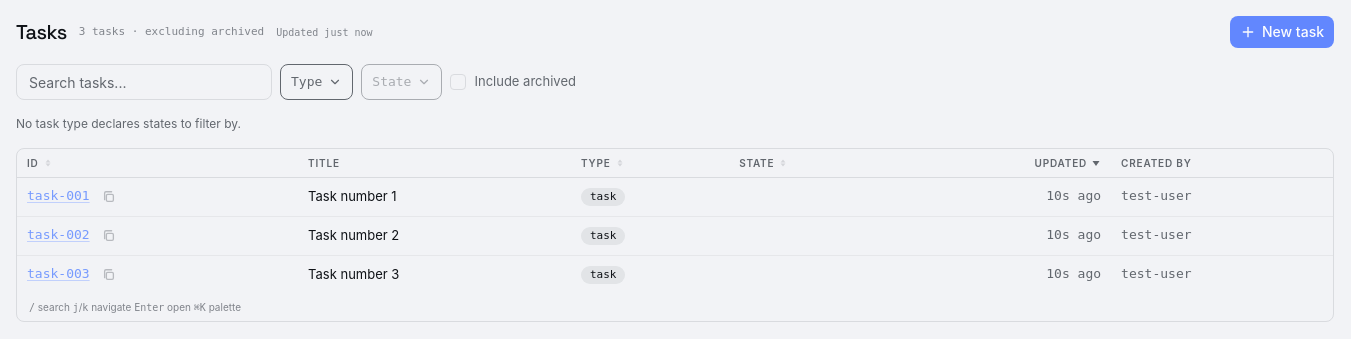
Scenario: TasksPage list › requests non-archived tasks by default and can include archived
Expected: the text "3 tasks · excluding archived" is shown, [79,24,264,40]
Click the checkbox named "Include archived" at [458, 82], box [450,74,466,90]
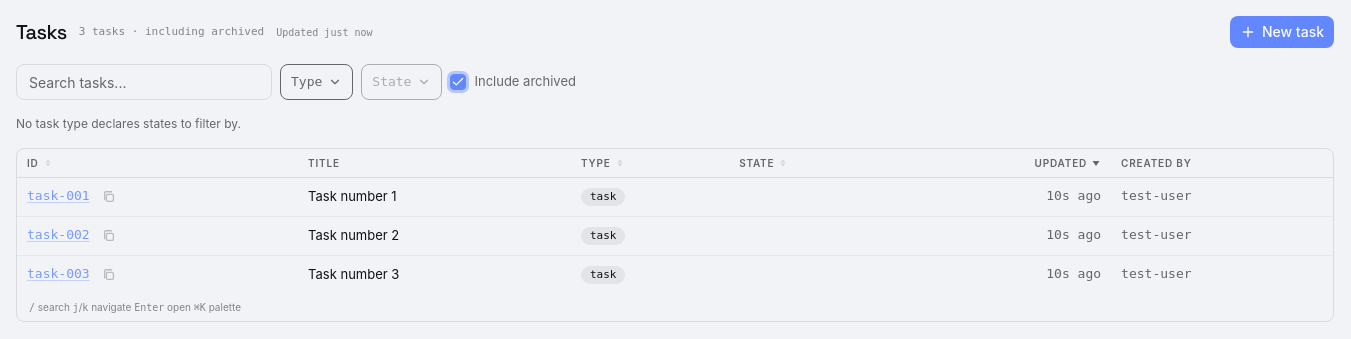
Expected: the text "3 tasks · including archived" is shown, [79,24,264,40]
